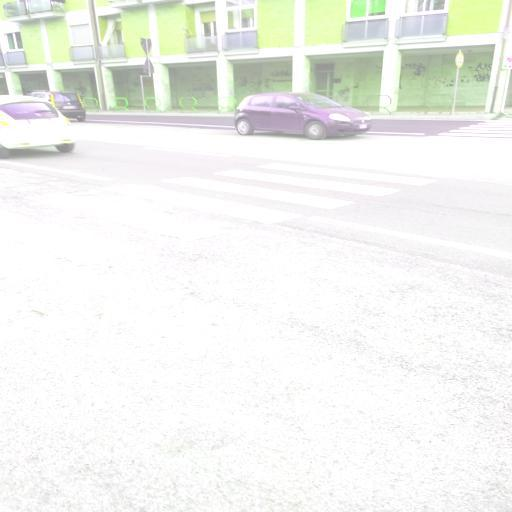crosswalk: (19, 183, 306, 245), (282, 146, 512, 172)
